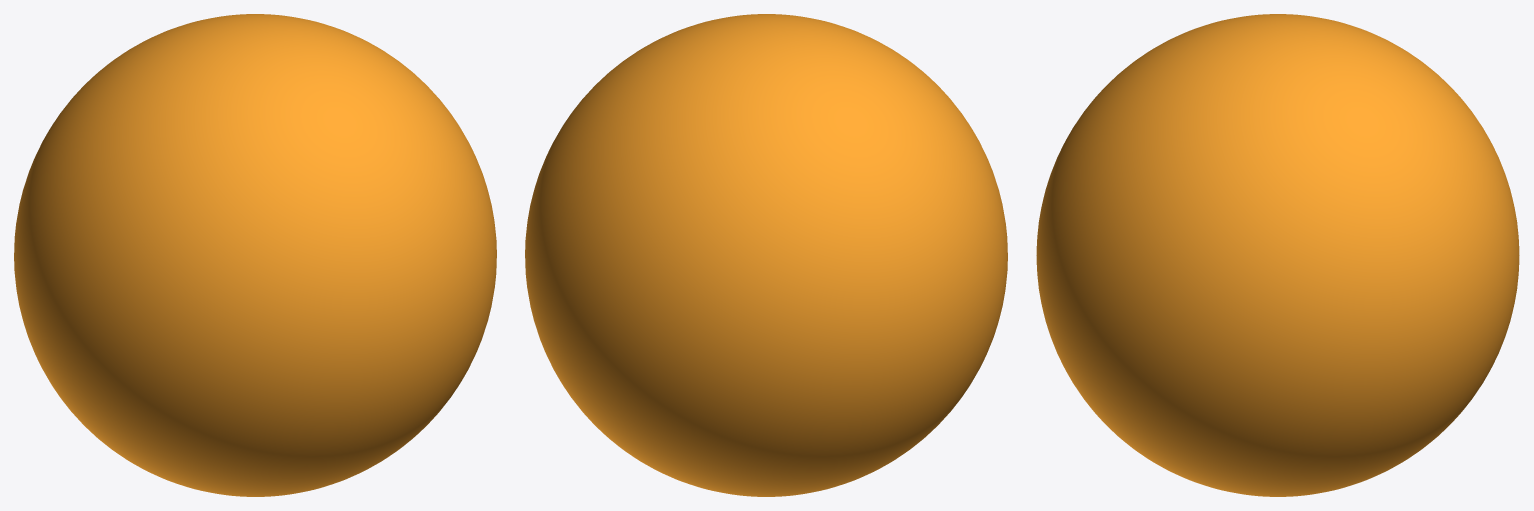
The model's file is sun.glb.
3 views of the same model, side by side, from view 1: azimuth 30°, elevation 25°; view 2: azimuth 150°, elevation 25°; view 3: azimuth 270°, elevation 25° (orthographic).
Visible parts, largest first — view 1: Sphere; view 2: Sphere; view 3: Sphere.
Part boxes in pixels (box(x1,y1,x2,y2)): Sphere: box(14, 14, 496, 496); Sphere: box(525, 14, 1007, 496); Sphere: box(1036, 14, 1519, 496).
Bounding box in the file's own units: 6.42 × 6.42 × 6.42.
